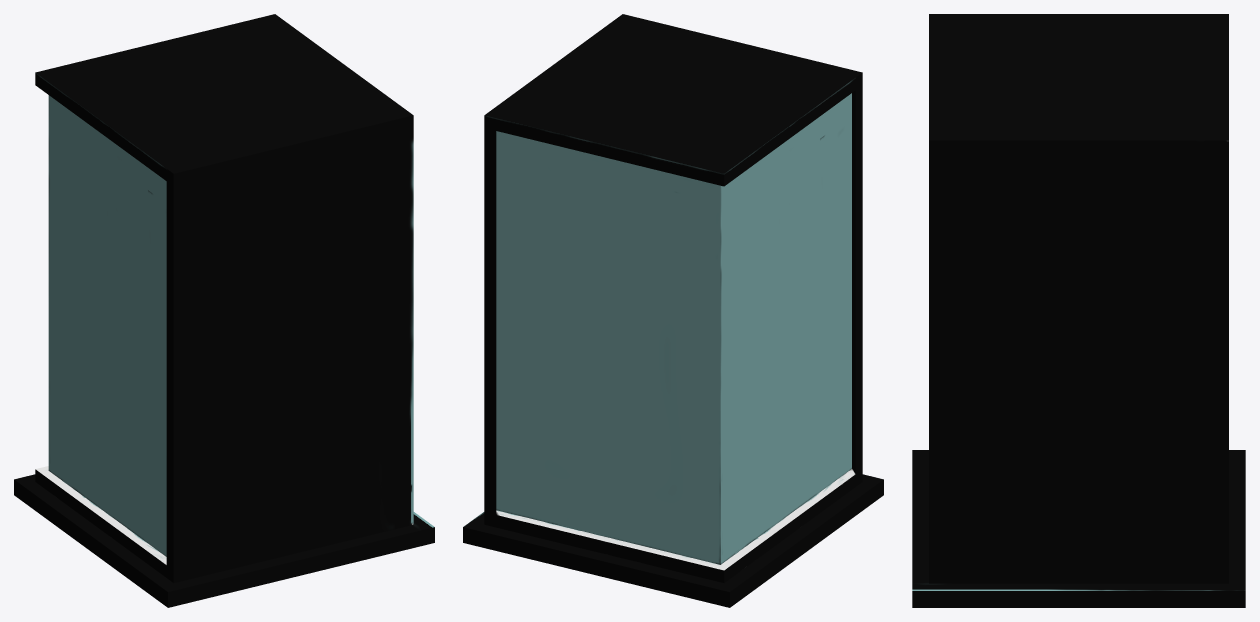
The model's file is Chuveiro.fbx.
The picture shows the model from 3 angles, left to right: view 1: azimuth 30°, elevation 25°; view 2: azimuth 150°, elevation 25°; view 3: azimuth 270°, elevation 25°; orthographic projection. The views are drawn at different scales.
Visible parts, largest first — view 1: Cube.006; view 2: Cube.006; view 3: Cube.006.
Boxes of the visible parts, x1,y1,x2,y2 form: Cube.006: (14,14,434,607); Cube.006: (463,14,883,607); Cube.006: (912,14,1245,607).
Size of the model in its own units: 200 by 304 by 200.
Materials: 1 (1 with a texture image).
